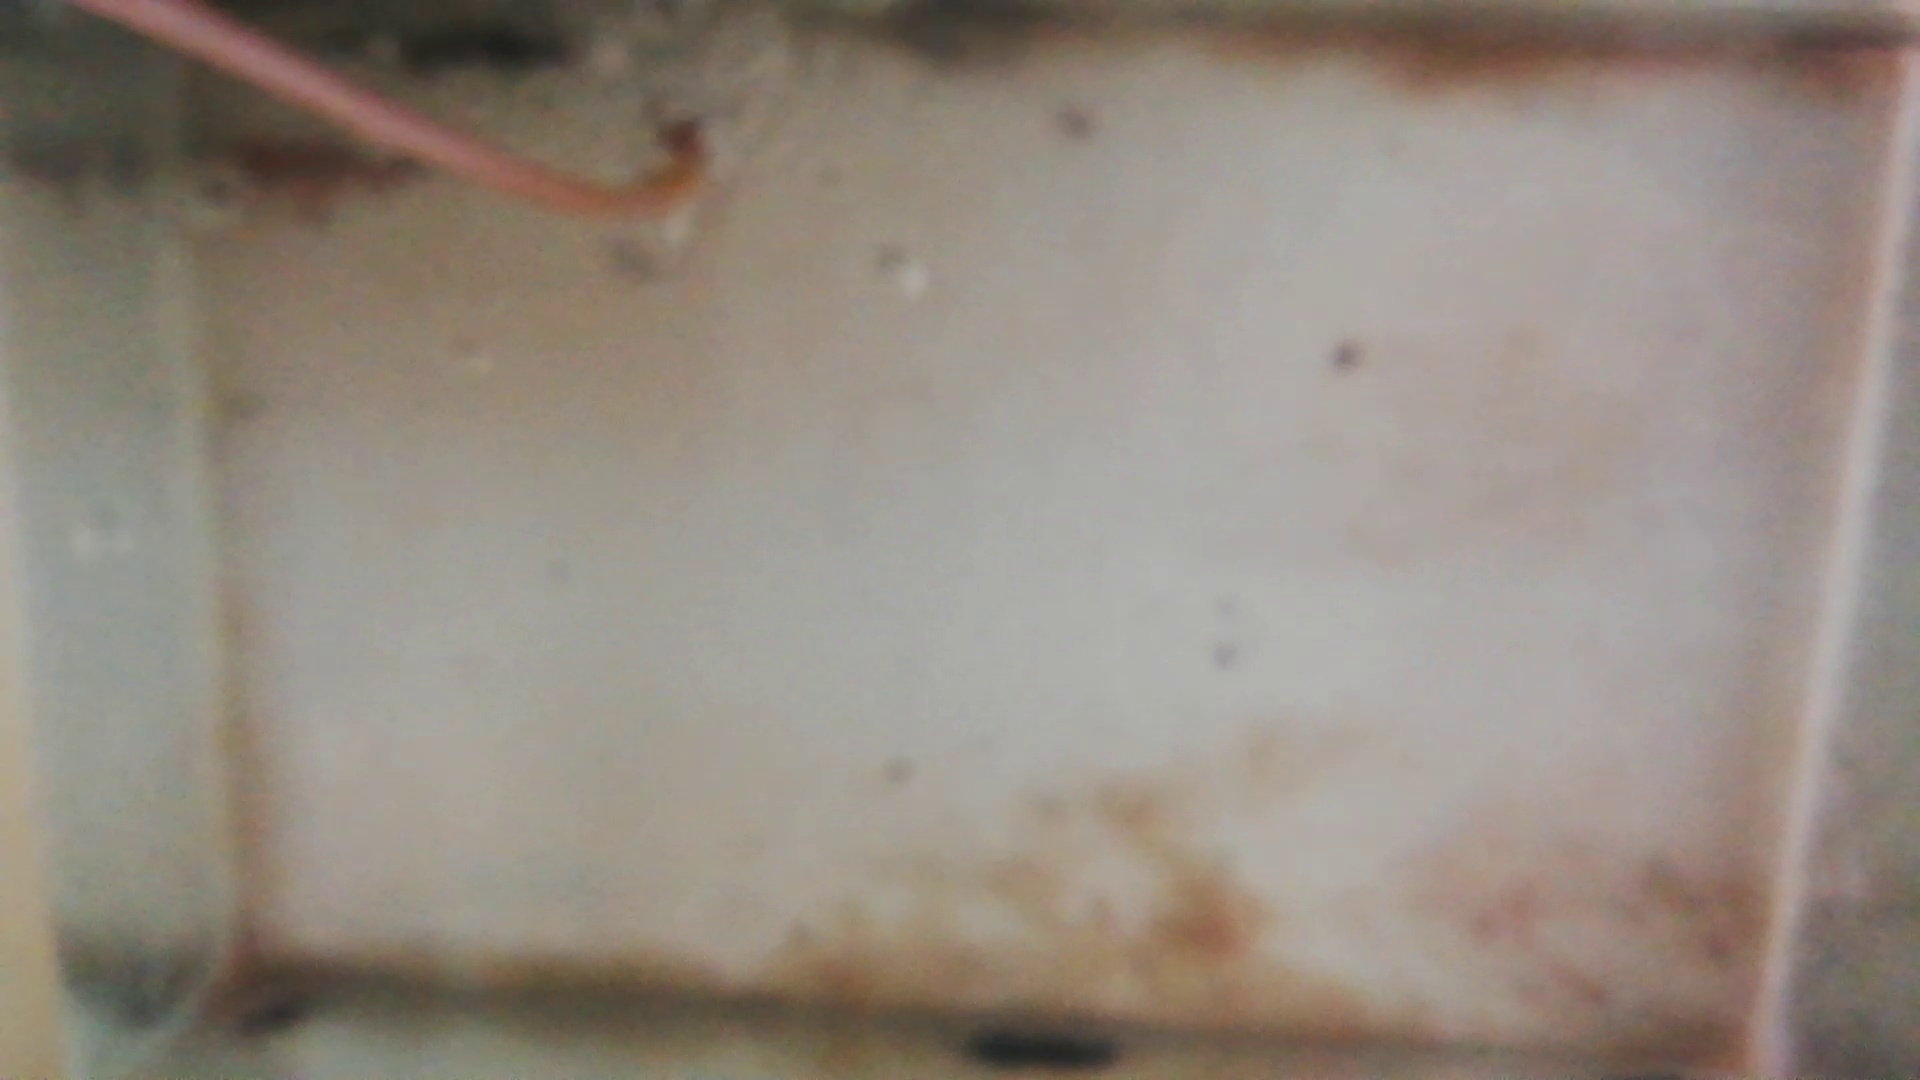fish: (198, 138, 401, 203)
